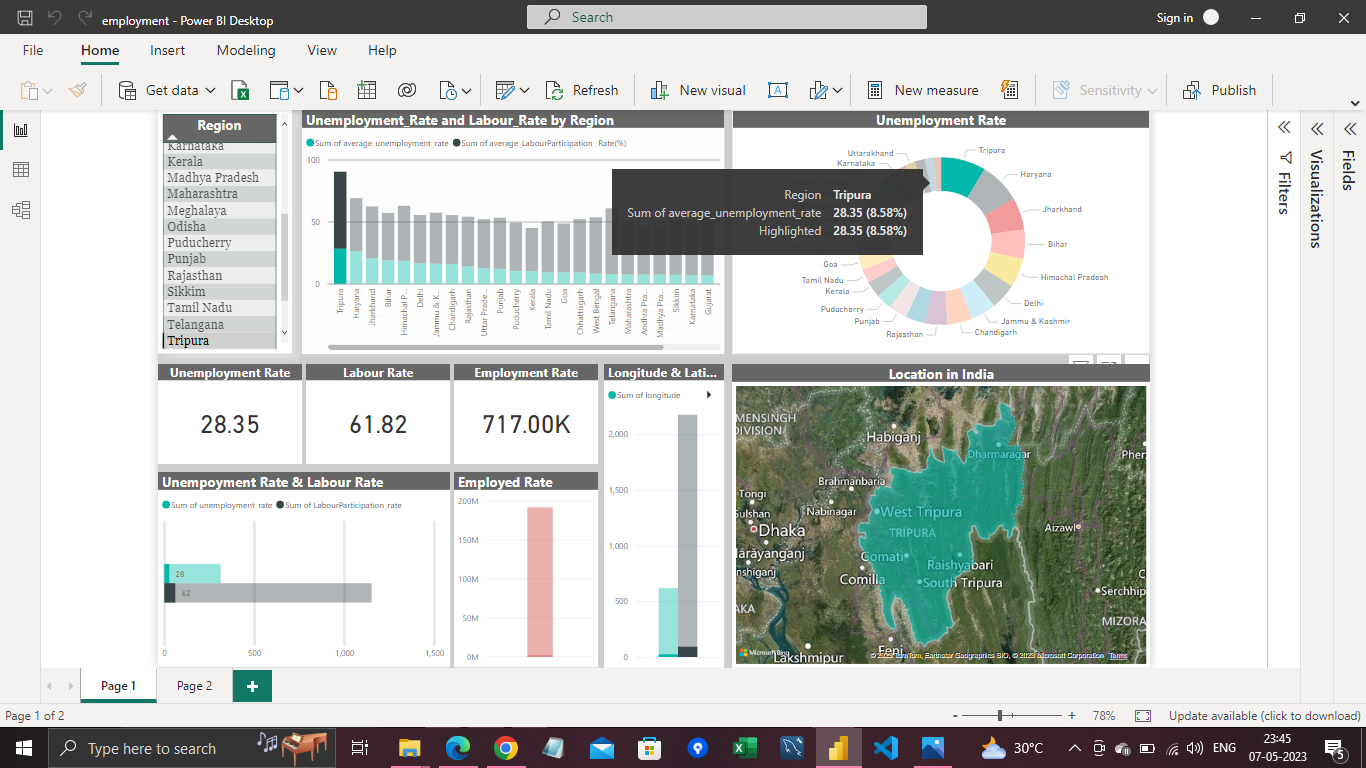

This screenshot's page, from the dashboard's own definition file:
{"tool":"powerbi","page":{"name":"Page 1","canvas":[1280,720],"ordinal":0},"visuals":[{"type":"tableEx","fields":{"Values":["unemployment average (2).Region"]},"box":[0,0,172.9,313.5],"z":0},{"type":"lineStackedColumnComboChart","title":"Unemployment_Rate and Labour_Rate by Region","fields":{"Category":["unemployment avg_rate.Region"],"Y":["Sum(unemployment avg_rate.average_unemployment_rate)","Sum(unemployment avg_rate.average_LabourParticipation _Rate(%))"]},"box":[185.8,0,545,315.2],"z":1000},{"type":"donutChart","title":"Unemployment Rate","fields":{"Category":["unemployment avg_rate.Region"],"Y":["Sum(unemployment avg_rate.average_unemployment_rate)"]},"box":[740.5,0,539.5,315.2],"z":2000},{"type":"filledMap","title":"Location in India","fields":{"Category":["unemployment average.STATE"]},"box":[740,327.7,540,392.3],"z":3000},{"type":"lineClusteredColumnComboChart","title":"Longitude & Latitude","fields":{"Y":["Sum(unemployment average.longitude)","Sum(unemployment average.latitude)"]},"box":[575.4,327.7,155.4,392.3],"z":4000},{"type":"card","title":"Unemployment Rate","fields":{"Values":["Sum(unemployment avg_rate.average_unemployment_rate)"]},"box":[0,327.7,186.2,129.2],"z":5000},{"type":"card","title":"Labour Rate","fields":{"Values":["Sum(unemployment avg_rate.average_LabourParticipation _Rate(%))"]},"box":[190.8,327.7,186.2,129.2],"z":6000},{"type":"card","title":"Employment Rate","fields":{"Values":["Sum(unemployment avg_rate.average_Employed)"]},"box":[381.5,327.7,186.2,129.2],"z":7000},{"type":"clusteredBarChart","title":"Unempoyment Rate & Labour Rate","fields":{"Y":["Sum(unemployment average.unemployment_rate)","Sum(unemployment average.LabourParticipation_rate)"]},"box":[0,467.7,376.9,252.3],"z":8000},{"type":"clusteredColumnChart","title":"Employed Rate","fields":{"Y":["Sum(unemployment average.average_Employed)"]},"box":[381.5,467.7,186.2,252.3],"z":9000}]}

Visuals, with their boxes on the page's 1280x720 design canvas (x1, y1, x2, y2). These are canvas units, not pixel positions in the 1366x768 screenshot, which may show the page scaled, cropped or inside an application window:
tableEx - unemployment average (2).Region: (x1=0, y1=0, x2=173, y2=314)
"Unemployment_Rate and Labour_Rate by Region" lineStackedColumnComboChart: (x1=186, y1=0, x2=731, y2=315)
"Unemployment Rate" donutChart: (x1=740, y1=0, x2=1280, y2=315)
"Location in India" filledMap: (x1=740, y1=328, x2=1280, y2=720)
"Longitude & Latitude" lineClusteredColumnComboChart: (x1=575, y1=328, x2=731, y2=720)
"Unemployment Rate" card: (x1=0, y1=328, x2=186, y2=457)
"Labour Rate" card: (x1=191, y1=328, x2=377, y2=457)
"Employment Rate" card: (x1=382, y1=328, x2=568, y2=457)
"Unempoyment Rate & Labour Rate" clusteredBarChart: (x1=0, y1=468, x2=377, y2=720)
"Employed Rate" clusteredColumnChart: (x1=382, y1=468, x2=568, y2=720)
